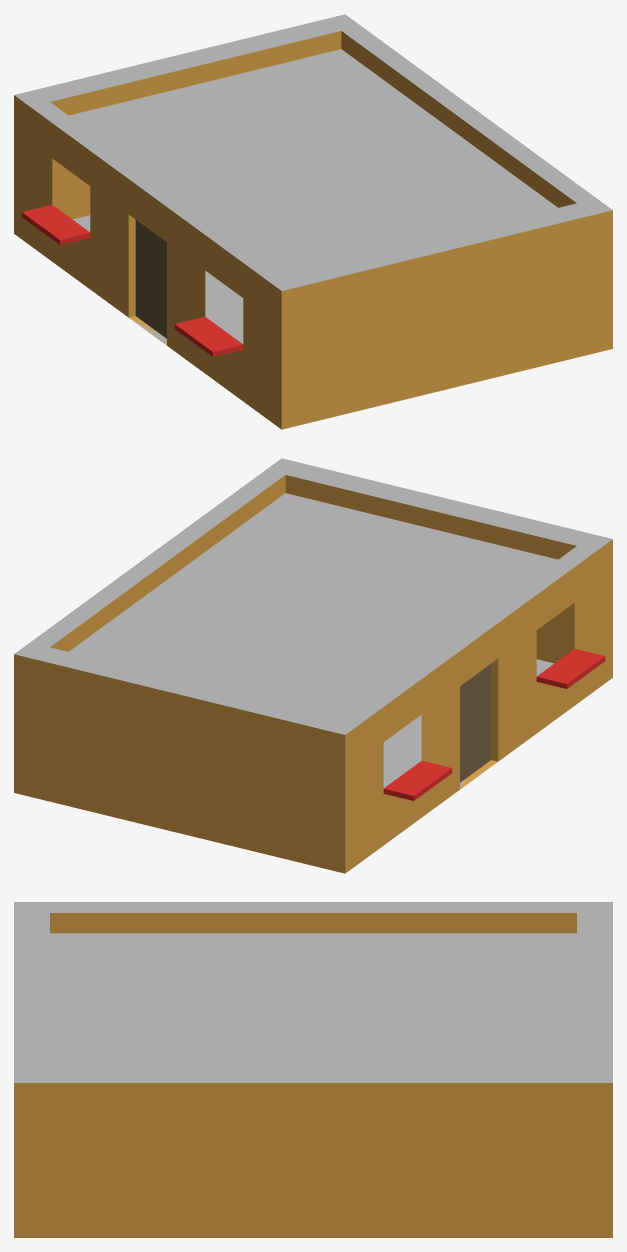
Rendered from house2.fbx.
3 views of the same model, one above another, from view 1: azimuth 30°, elevation 25°; view 2: azimuth 150°, elevation 25°; view 3: azimuth 270°, elevation 25° (orthographic). The views are drawn at different scales.
Visible parts, largest first — view 1: House2; view 2: House2; view 3: House2.
Boxes of the visible parts, bbox=[...] form: House2: bbox=[14, 14, 612, 429]; House2: bbox=[14, 458, 612, 873]; House2: bbox=[14, 902, 612, 1237].
Size of the model in its own units: 10.92 by 14 by 4.
